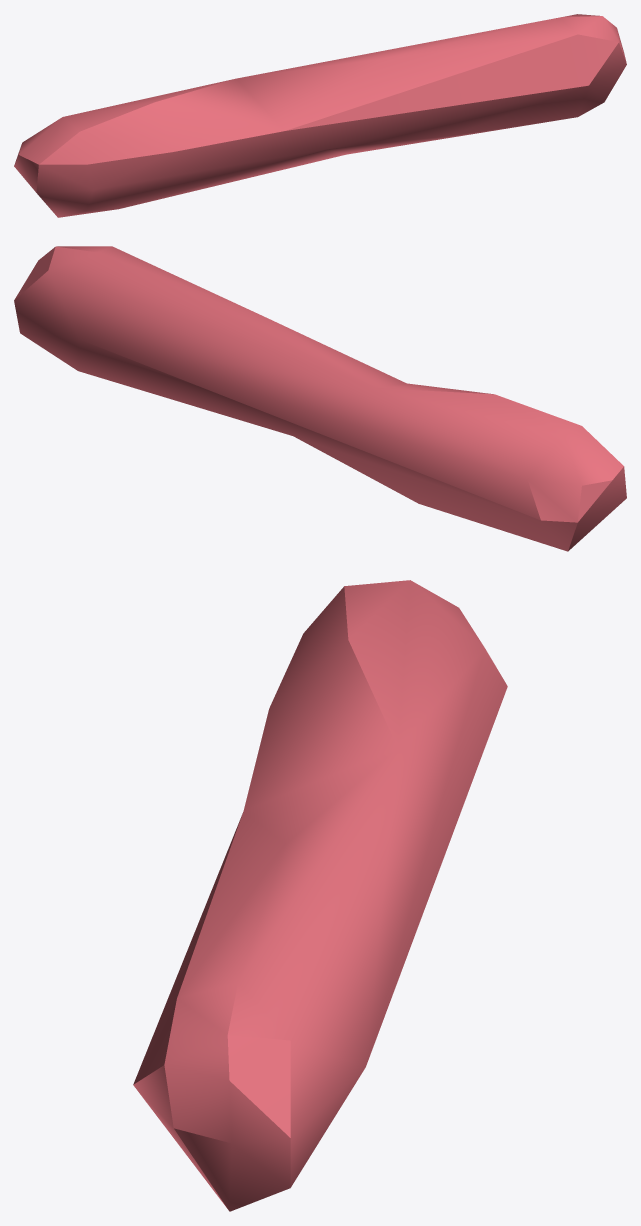
The model's file is fma50169_fj4706.glb.
3 renders of one model, top to bottom at view 1: azimuth 30°, elevation 25°; view 2: azimuth 150°, elevation 25°; view 3: azimuth 270°, elevation 25°, orthographic. The views are drawn at different scales.
Visible parts, largest first — view 1: FMA50169_FJ4706; view 2: FMA50169_FJ4706; view 3: FMA50169_FJ4706.
Part boxes in pixels (box(x1,y1,x2,y2)): FMA50169_FJ4706: box(14, 14, 626, 217); FMA50169_FJ4706: box(14, 246, 626, 551); FMA50169_FJ4706: box(133, 580, 507, 1211).
Bounding box in the file's own units: 0.00638 × 0.00131 × 0.00185.
